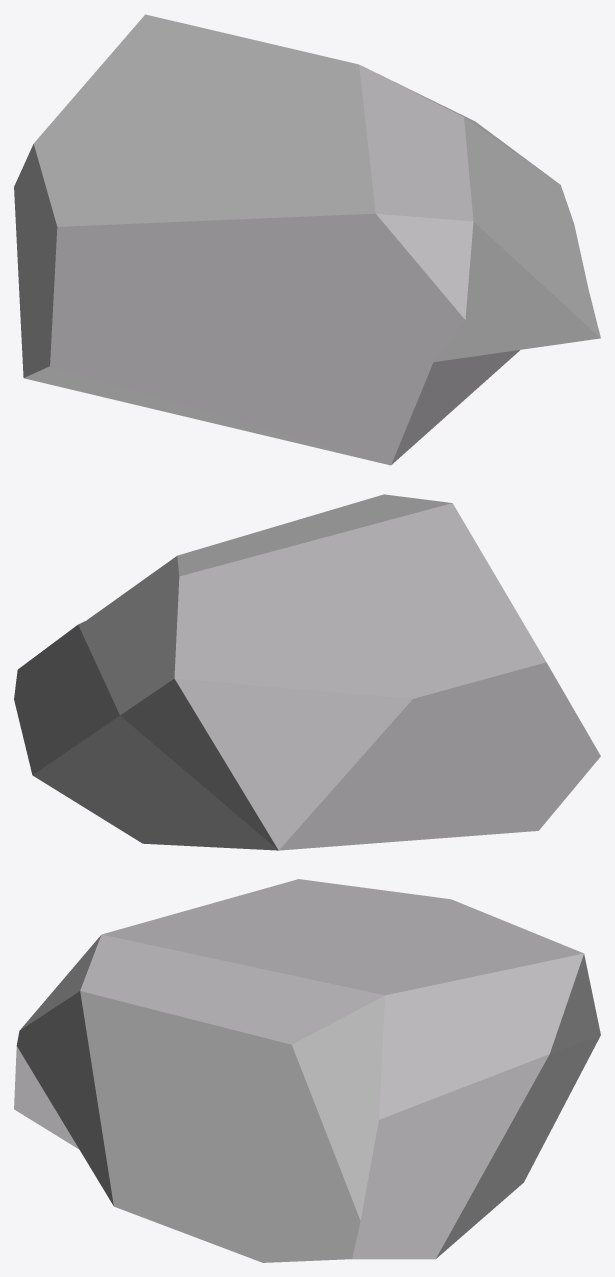
Rendered from Rock1.fbx.
The picture shows the model from 3 angles, top to bottom: view 1: azimuth 30°, elevation 25°; view 2: azimuth 150°, elevation 25°; view 3: azimuth 270°, elevation 25°; orthographic projection. The views are drawn at different scales.
Parts seen in each view (by area): view 1: Rock1; view 2: Rock1; view 3: Rock1.
Part boxes in pixels (left/top/right/bottom): Rock1: left=14, top=14, right=600, bottom=465; Rock1: left=14, top=494, right=600, bottom=850; Rock1: left=14, top=879, right=600, bottom=1262.
Bounding box in the file's own units: 118 × 47.39 × 114.
